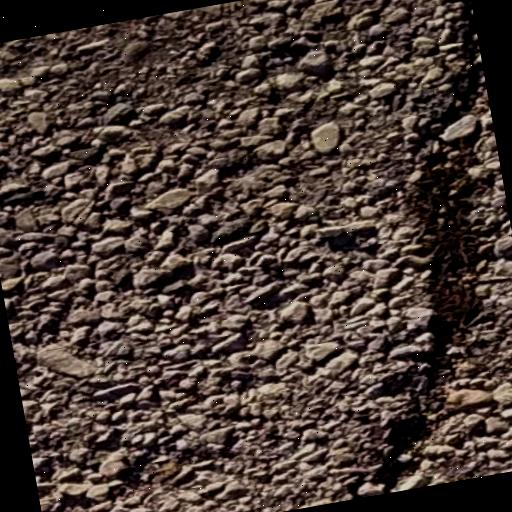spalling: (353, 0, 481, 487)
